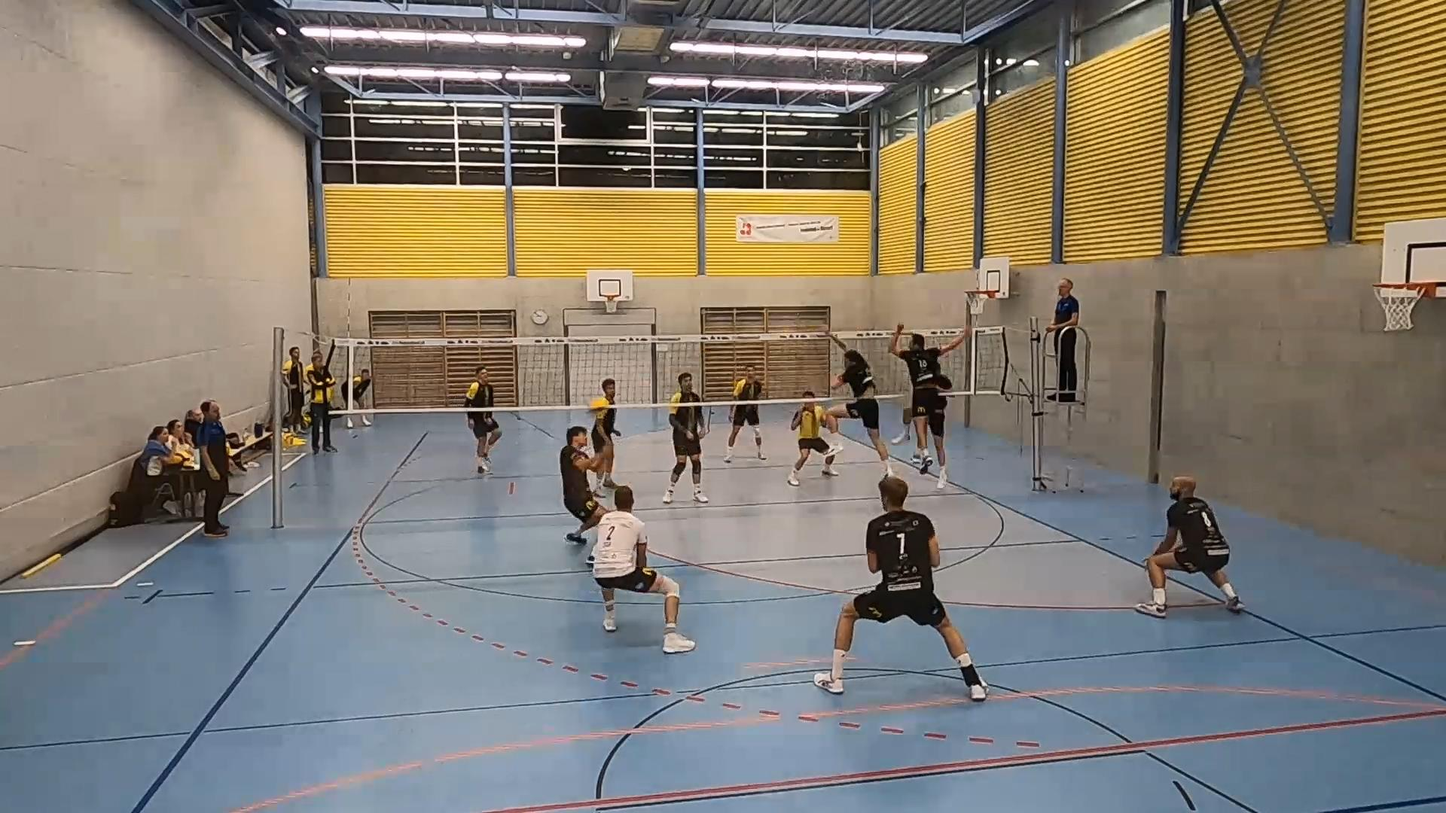difesa: (563, 422, 616, 547)
muro: (890, 312, 974, 488), (821, 325, 895, 481)
